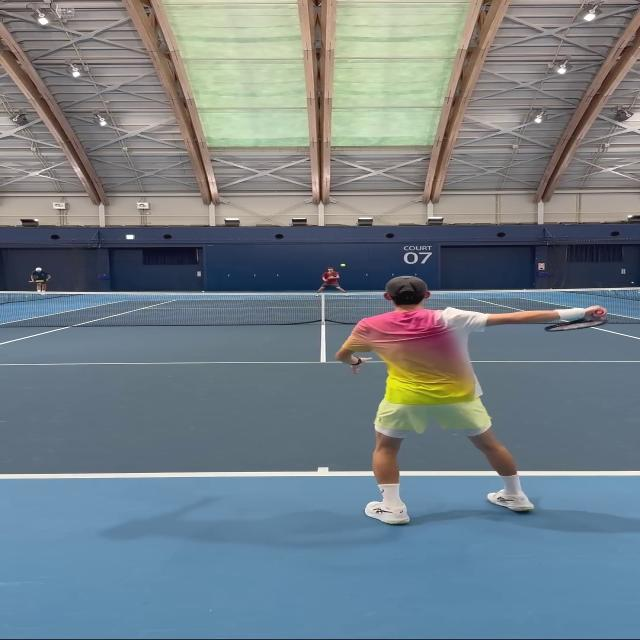tennis_ball: (341, 264, 345, 266)
